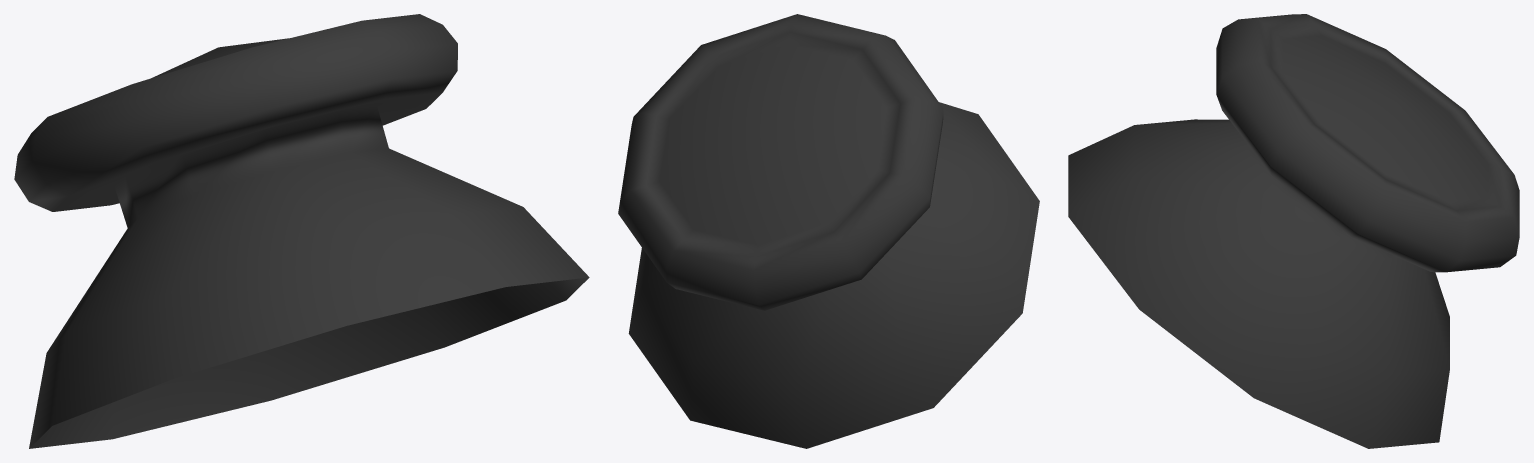
Rendered from crystal_controller_right_button1.obj.
3 renders of one model, left to right at view 1: azimuth 30°, elevation 25°; view 2: azimuth 150°, elevation 25°; view 3: azimuth 270°, elevation 25°, orthographic. The views are drawn at different scales.
Parts seen in each view (by area): view 1: crystal_controller_right_button1; view 2: crystal_controller_right_button1; view 3: crystal_controller_right_button1.
Boxes of the visible parts, <box> form: crystal_controller_right_button1: <box>14,14,589,448</box>; crystal_controller_right_button1: <box>618,14,1039,448</box>; crystal_controller_right_button1: <box>1068,14,1519,448</box>.
Bounding box in the file's own units: 0.019 × 0.0166 × 0.0183.
Materials: 1 (1 with a texture image).
